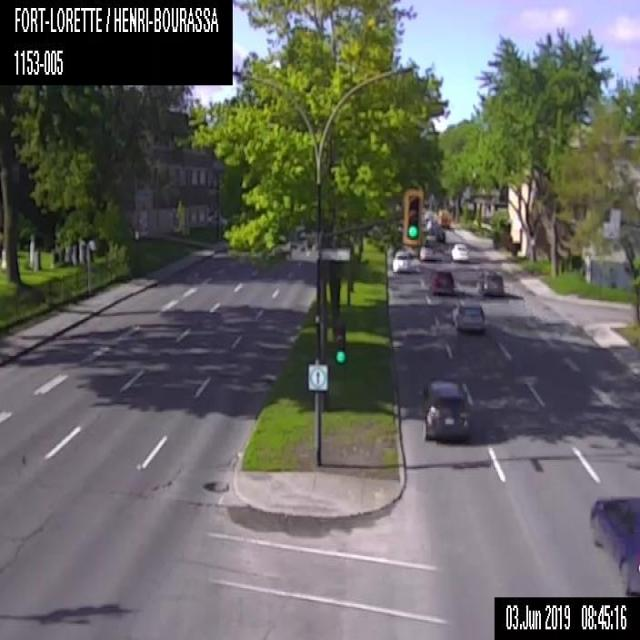vehicle: (586, 493, 639, 598), (417, 369, 472, 443), (448, 300, 486, 332), (428, 266, 455, 298), (476, 267, 504, 296), (390, 248, 410, 275), (447, 241, 469, 263), (419, 242, 439, 262), (436, 208, 451, 228), (429, 224, 445, 241), (424, 234, 438, 246)
